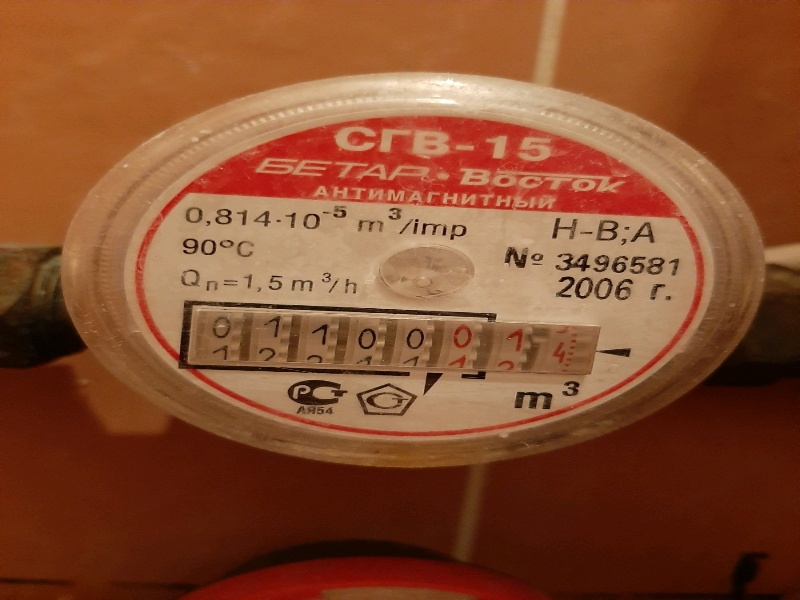meter: (172, 310, 588, 378)
